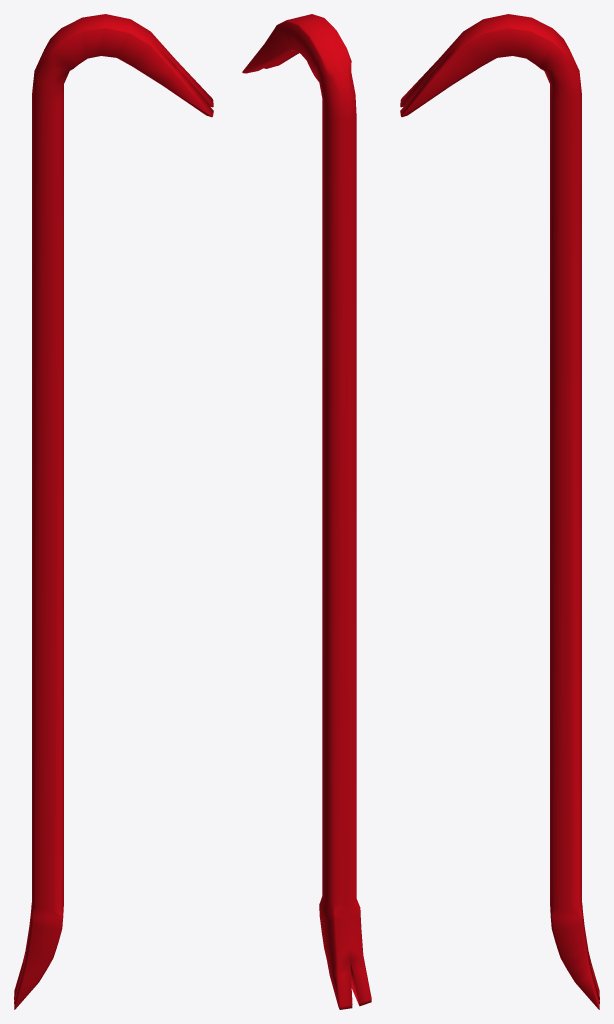
Rendered from Crowbar.fbx.
3 views of the same model, side by side, from view 1: azimuth 90°, elevation 25°; view 2: azimuth 210°, elevation 25°; view 3: azimuth 270°, elevation 25° (orthographic). The views are drawn at different scales.
Parts seen in each view (by area): view 1: Cube; view 2: Cube; view 3: Cube.
Boxes of the visible parts, x1,y1,x2,y2 form: Cube: (14,14,213,1009); Cube: (242,14,371,1009); Cube: (400,14,599,1009).
Size of the model in its own units: 4.92 by 126 by 23.22.
